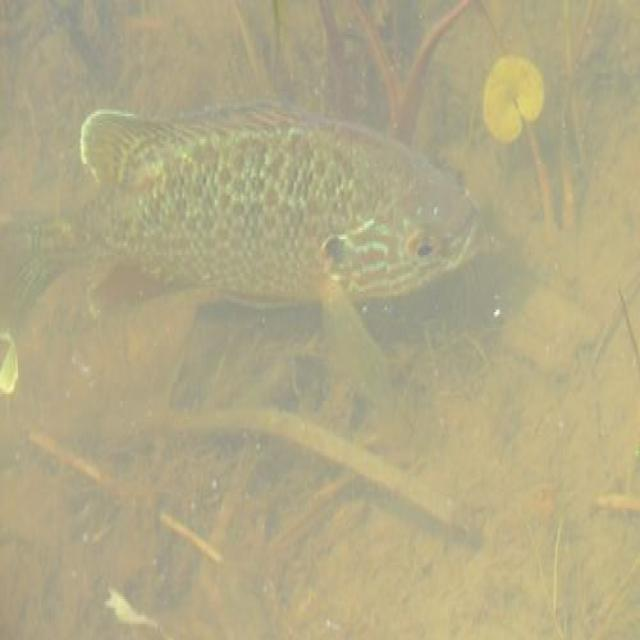Gunes Levregi: (7, 101, 488, 333)
